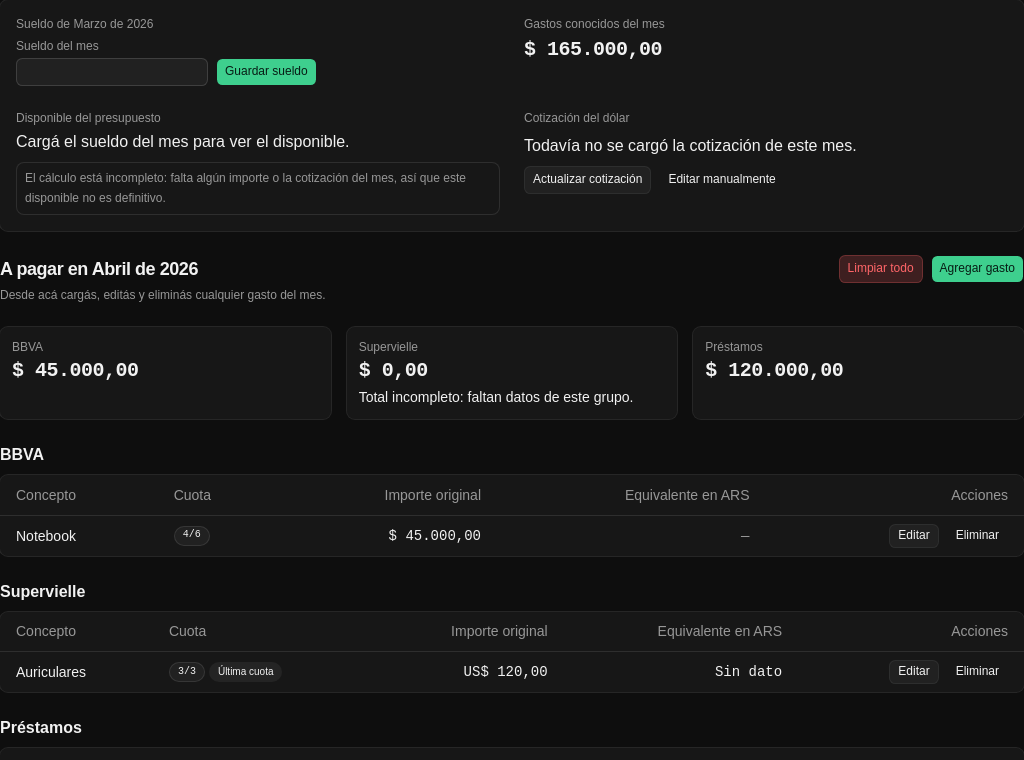
Test: compras con tarjeta desde Presupuesto › lista la compra en el mes, marca la última cuota y consulta solo las compras con tarjeta al abrir el formulario
Check: the text "Notebook" is shown, box [0,516,158,556]
Check: the heading "BBVA" is shown, box [0,446,44,463]
Click the button "Agregar gasto" at (977, 269), box [931,255,1023,283]
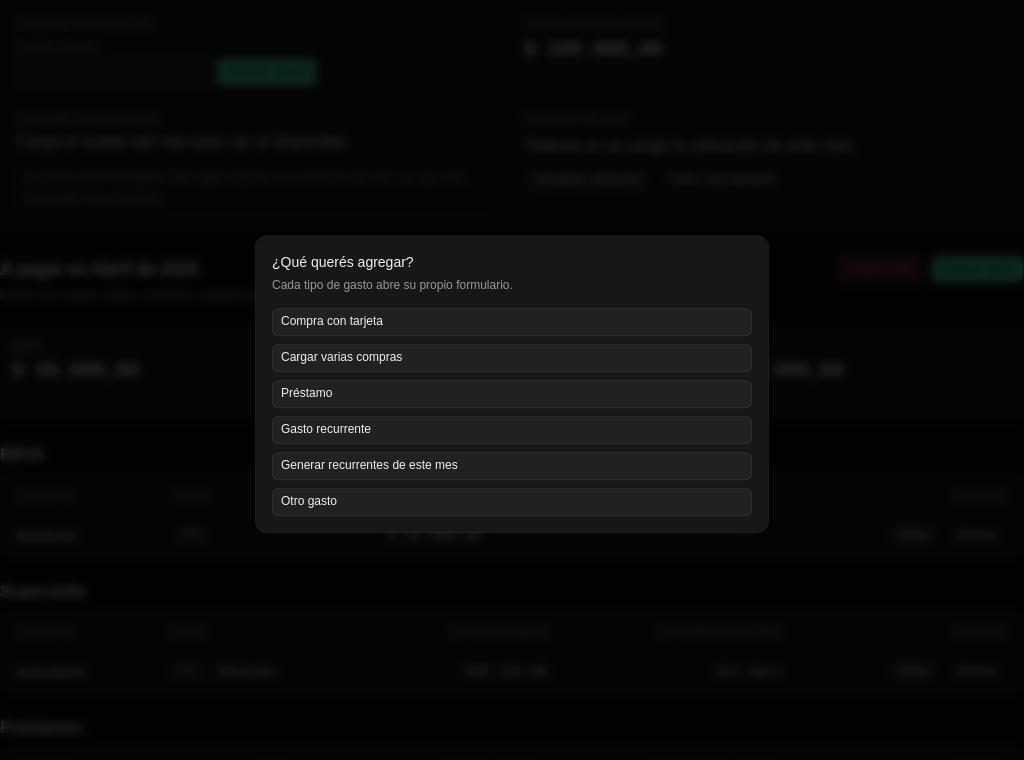
Click the button "Compra con tarjeta" at (332, 321), box [272,308,752,336]
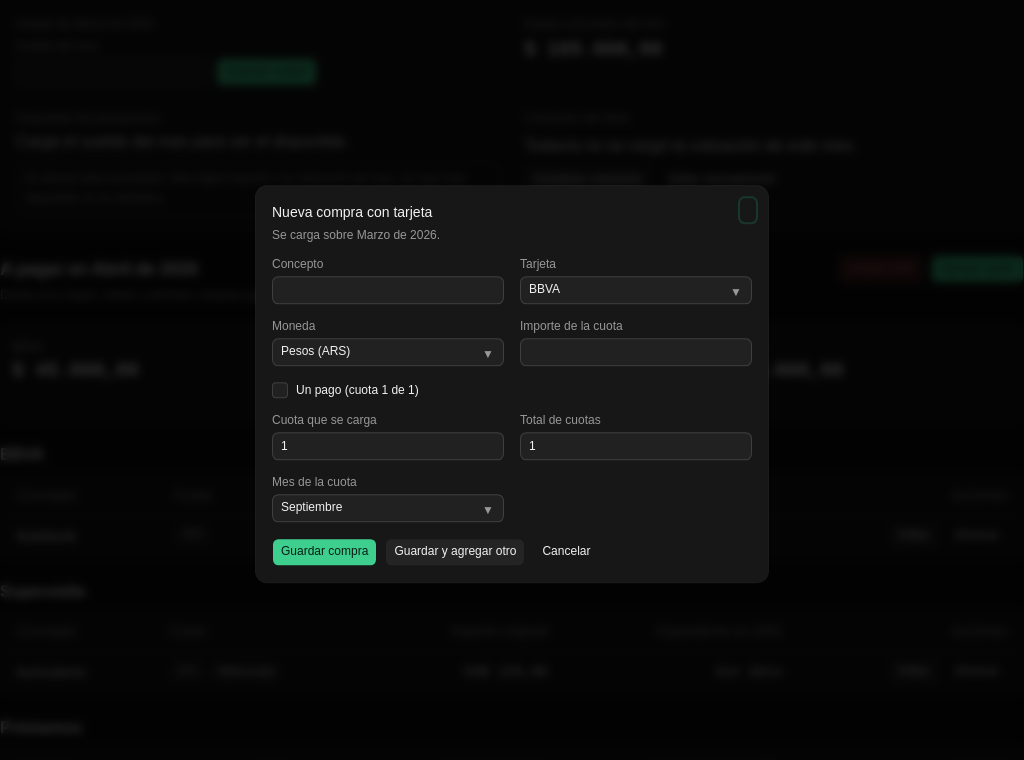
Check: the field labelled "Concepto" is shown, box [272,276,504,304]
